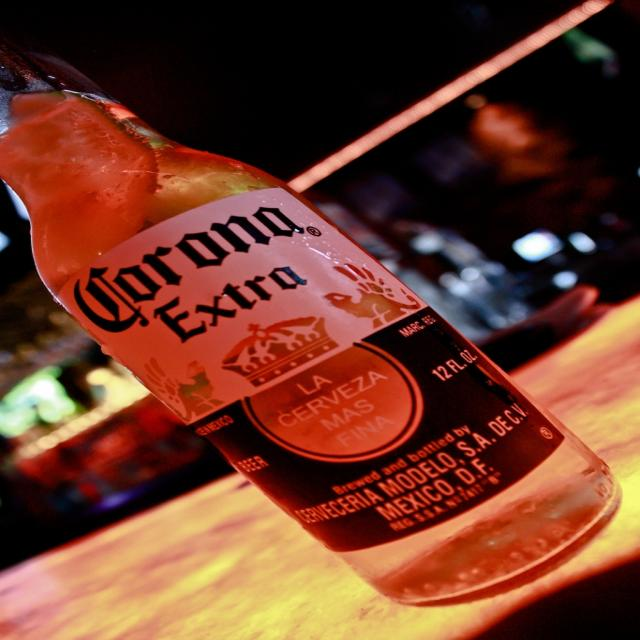corona: (58, 189, 566, 554)
